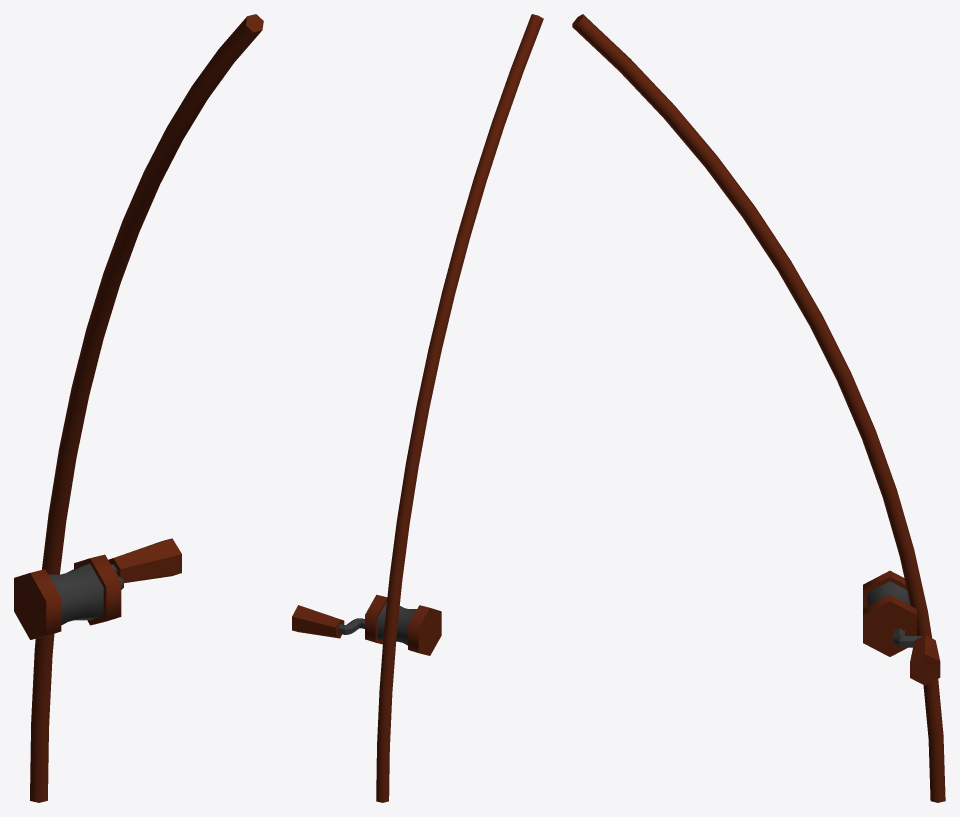
File: canna a peche.fbx
3 renders of one model, left to right at view 1: azimuth 30°, elevation 25°; view 2: azimuth 150°, elevation 25°; view 3: azimuth 270°, elevation 25°, orthographic. The views are drawn at different scales.
Parts seen in each view (by area): view 1: ST_Canne_Peche; view 2: ST_Canne_Peche; view 3: ST_Canne_Peche.
Part boxes in pixels (<box>): ST_Canne_Peche: <box>14,14,263,802</box>; ST_Canne_Peche: <box>292,14,543,802</box>; ST_Canne_Peche: <box>572,14,945,802</box>.
Size of the model in its own units: 34.64 by 190 by 81.89.
